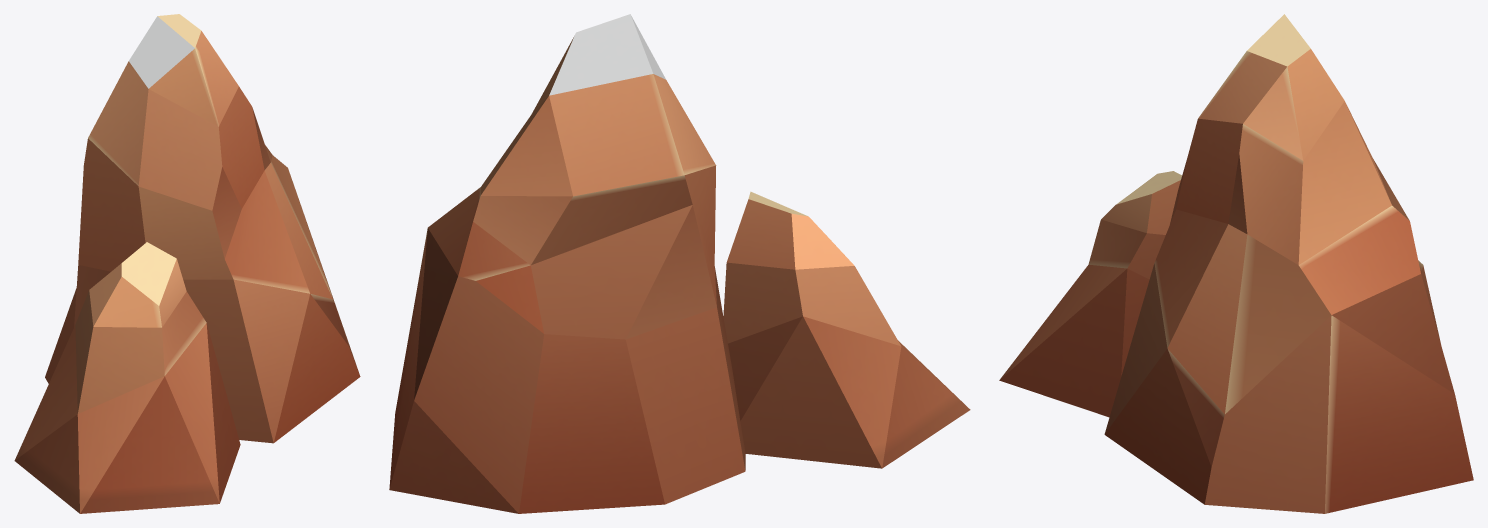
The model's file is DesertMountain_02.fbx.
The picture shows the model from 3 angles, left to right: view 1: azimuth 30°, elevation 25°; view 2: azimuth 150°, elevation 25°; view 3: azimuth 270°, elevation 25°; orthographic projection. The views are drawn at different scales.
Visible parts, largest first — view 1: DesertMountain_02; view 2: DesertMountain_02; view 3: DesertMountain_02.
Part boxes in pixels (x1,y1,x2,y2): DesertMountain_02: (14,14,360,513); DesertMountain_02: (389,14,970,513); DesertMountain_02: (999,14,1473,513).
Bounding box in the file's own units: 6740 × 6542 × 6977.
